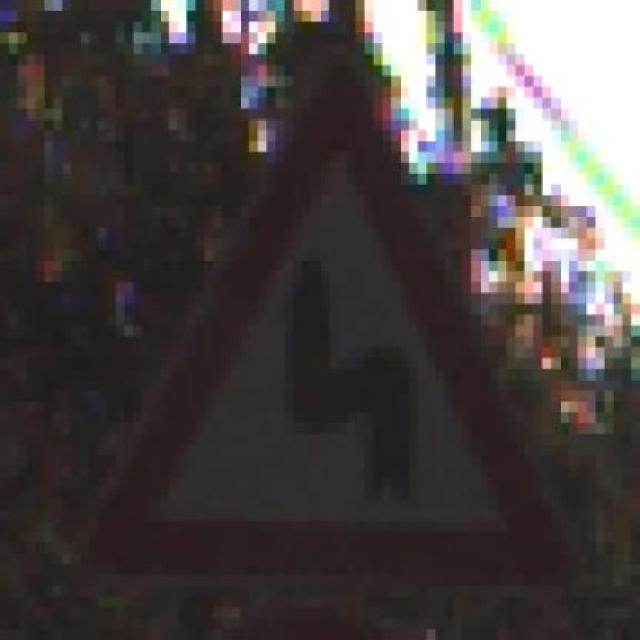Left Zig Zag Traffic: (80, 43, 578, 586)
